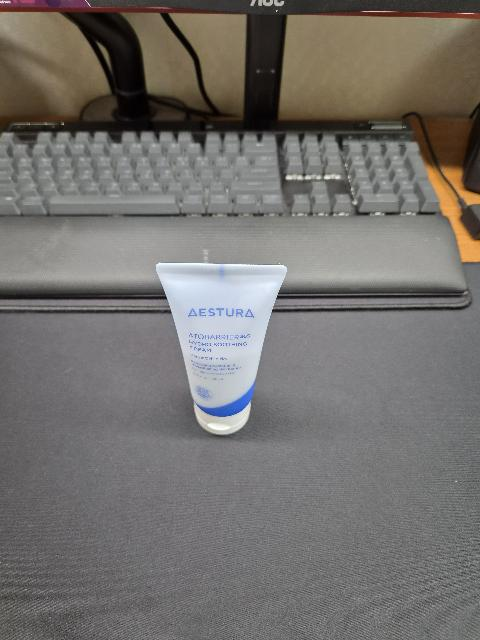handcream: (156, 262, 287, 434)
